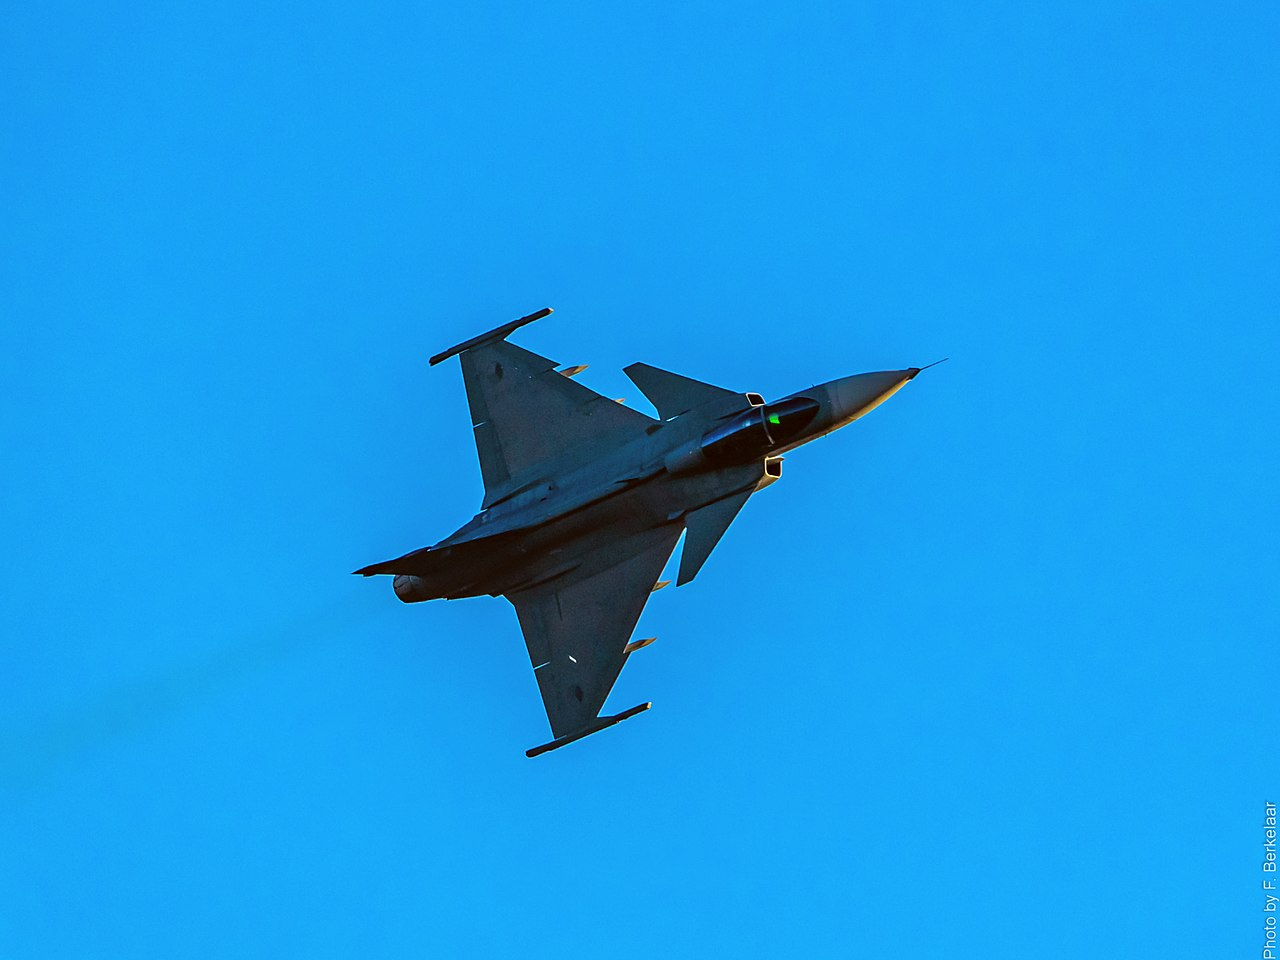JAS39: (351, 307, 948, 758)
